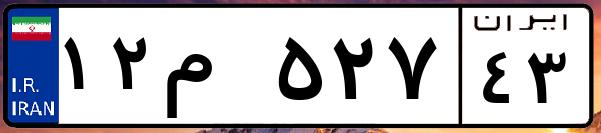1: (57, 26, 110, 100)
2: (330, 28, 385, 110), (110, 28, 158, 98)
3: (525, 38, 570, 115)
4: (475, 38, 525, 113)
5: (270, 28, 330, 110)
7: (385, 28, 445, 110)
م: (158, 20, 270, 120)
